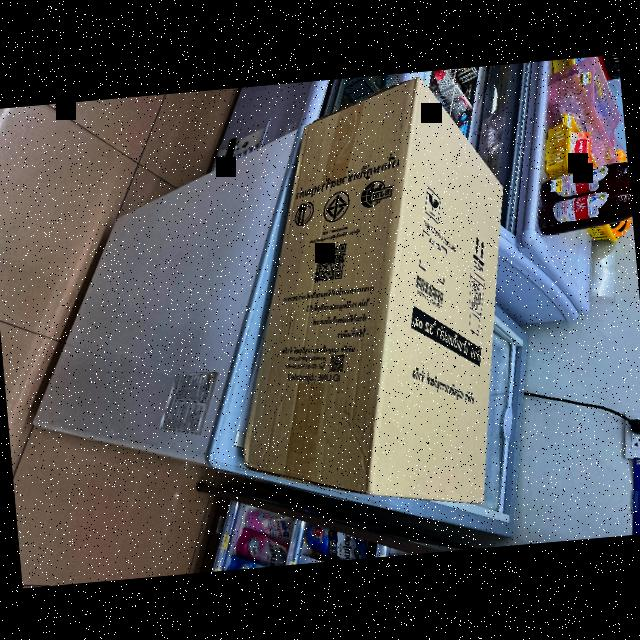cardboard_box: (238, 71, 509, 495)
